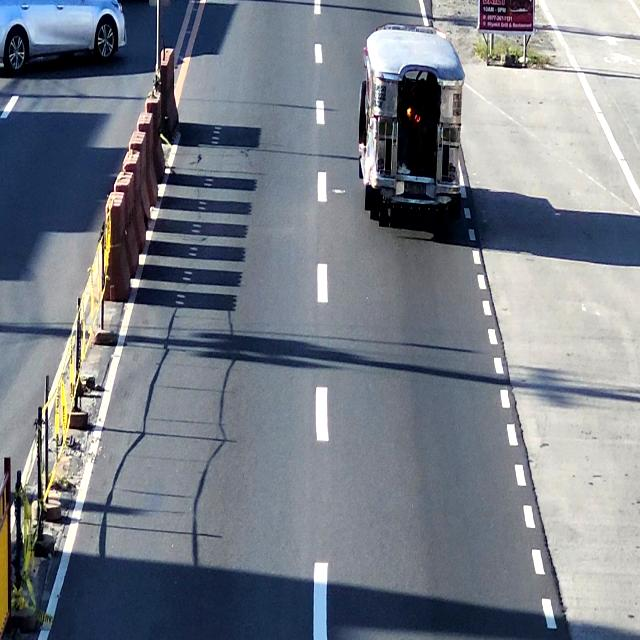Jeep: (357, 23, 462, 240)
